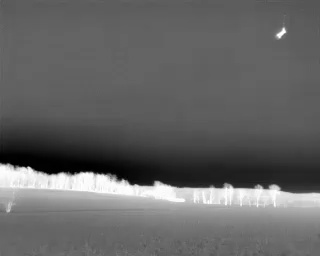DRONE: (272, 23, 290, 44)
